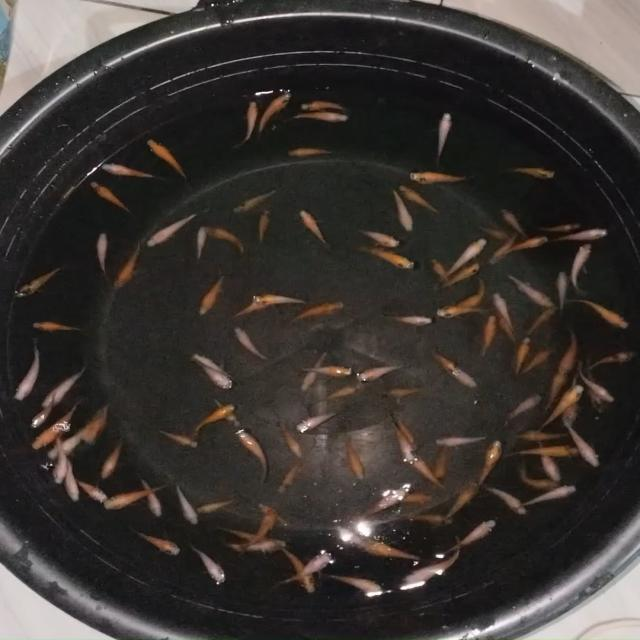nila: (421, 238, 484, 290), (396, 542, 464, 590), (32, 398, 87, 451), (144, 137, 196, 186), (536, 382, 586, 432), (94, 476, 173, 506), (274, 550, 336, 588), (42, 358, 90, 407), (144, 210, 202, 250), (496, 385, 548, 428), (564, 297, 631, 330), (560, 418, 604, 468), (445, 516, 500, 554), (10, 263, 66, 300), (12, 340, 42, 405), (184, 539, 226, 584), (281, 546, 320, 594), (254, 91, 300, 131), (240, 504, 280, 550), (128, 526, 182, 559), (233, 430, 270, 478), (576, 363, 620, 403), (360, 486, 408, 522), (509, 274, 556, 310), (286, 298, 346, 326), (516, 484, 578, 511), (90, 180, 134, 218), (406, 452, 447, 492), (482, 482, 530, 516), (445, 474, 482, 518), (228, 184, 282, 214), (395, 178, 437, 216), (361, 246, 418, 274), (439, 261, 482, 298), (296, 347, 331, 392), (42, 424, 88, 458), (193, 352, 234, 390), (110, 242, 142, 290), (52, 453, 82, 503), (364, 542, 432, 564), (559, 368, 583, 430), (190, 402, 236, 434), (135, 470, 164, 520), (272, 421, 308, 461), (297, 208, 332, 248), (219, 524, 277, 548), (518, 462, 564, 492), (198, 269, 226, 318), (323, 572, 385, 594), (340, 434, 366, 486), (190, 352, 240, 379), (518, 343, 560, 375), (100, 433, 128, 481), (508, 443, 586, 460), (378, 306, 433, 330), (534, 437, 563, 482), (64, 474, 109, 503), (202, 226, 250, 253), (570, 242, 594, 296), (587, 356, 608, 416), (582, 348, 638, 370), (475, 438, 503, 482), (392, 186, 416, 236), (173, 478, 198, 526), (434, 108, 456, 162), (493, 288, 520, 332), (456, 274, 487, 312), (388, 418, 414, 463), (484, 230, 516, 266), (226, 295, 274, 319), (524, 300, 560, 332), (292, 411, 342, 434), (553, 225, 610, 245), (434, 300, 491, 320), (153, 428, 200, 452), (503, 162, 561, 181), (101, 162, 159, 181), (354, 226, 404, 248), (28, 391, 56, 430), (497, 208, 531, 240), (190, 496, 239, 518), (278, 456, 306, 494), (318, 383, 366, 405), (541, 369, 567, 409), (291, 109, 352, 126), (81, 407, 112, 440), (210, 396, 244, 426), (428, 256, 456, 292), (188, 222, 212, 264), (233, 327, 265, 358), (354, 364, 409, 382), (476, 311, 499, 354), (398, 511, 455, 528), (404, 170, 472, 184), (395, 412, 420, 450), (223, 539, 290, 553), (50, 434, 68, 486), (431, 347, 462, 377), (258, 499, 292, 526), (509, 335, 531, 376), (558, 331, 578, 376), (248, 294, 312, 308), (370, 384, 426, 400), (494, 312, 521, 345), (446, 365, 483, 389), (506, 236, 550, 256), (470, 221, 516, 240), (388, 486, 436, 504), (252, 206, 273, 247), (297, 98, 350, 114), (432, 442, 452, 484), (349, 529, 378, 557), (516, 428, 572, 442), (242, 98, 259, 144), (32, 320, 85, 334), (298, 366, 358, 378), (430, 436, 492, 447), (95, 231, 108, 281), (286, 145, 332, 159), (534, 220, 582, 233), (557, 270, 570, 312)
